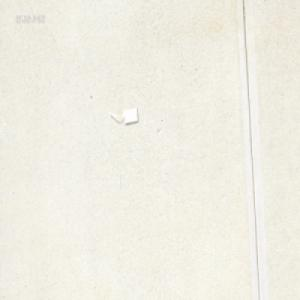LuggageTag: (108, 106, 138, 124)
